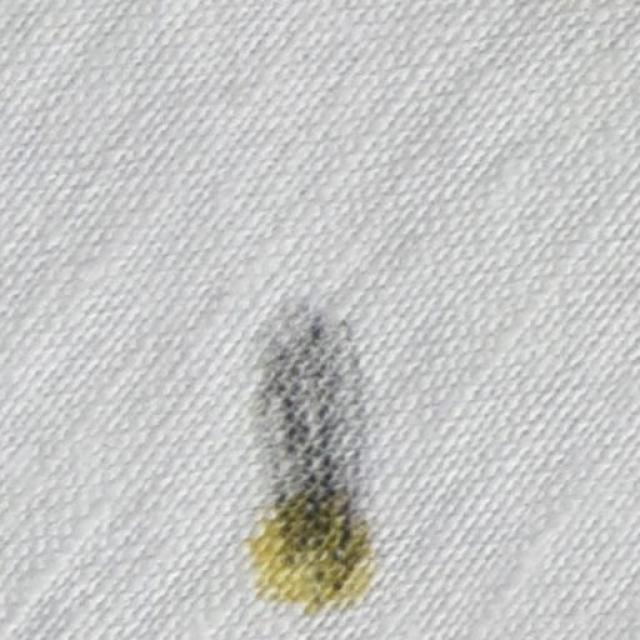Stain: (240, 292, 385, 618)
